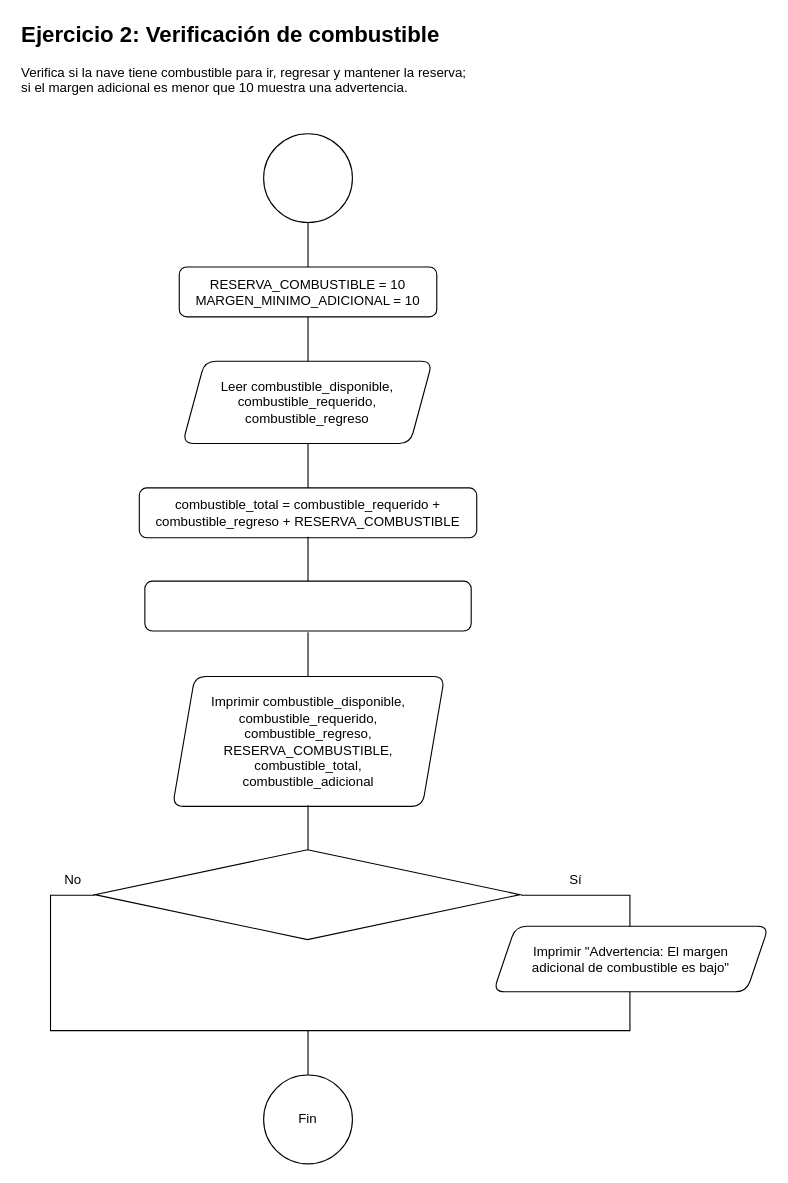
The diagram is 788 pixels wide and 1183 high, and some of its shapes have lost their labels. Each missing label, with the centre of its shape:
combustible_adicional < MARGEN_MINIMO_ADICIONAL: the point at 307,894
combustible_adicional = combustible_disponible - combustible_total: the point at 307,605
Inicio: the point at 307,178
